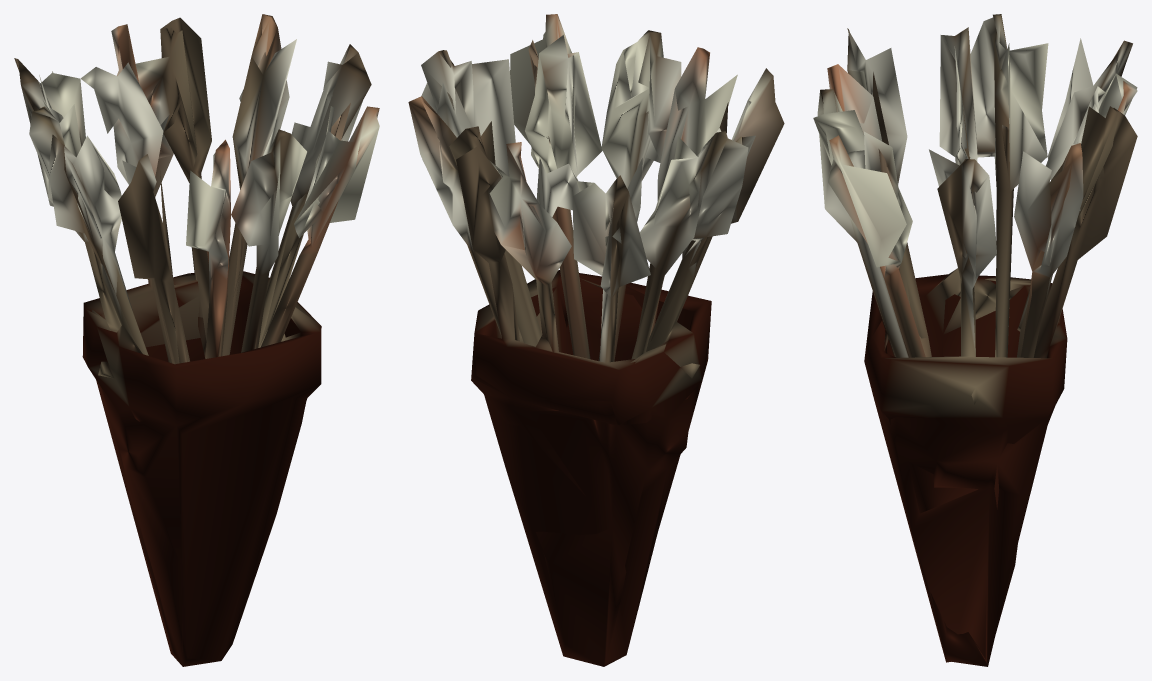
The model's file is gen3d-quiver-lod1.glb.
3 renders of one model, left to right at view 1: azimuth 30°, elevation 25°; view 2: azimuth 150°, elevation 25°; view 3: azimuth 270°, elevation 25°, orthographic.
Parts seen in each view (by area): view 1: part_0; view 2: part_0; view 3: part_0.
Boxes of the visible parts, <box> form: part_0: <box>14,14,379,666</box>; part_0: <box>408,14,784,666</box>; part_0: <box>813,14,1137,666</box>.
Size of the model in its own units: 0.6043 by 0.9935 by 0.508.
